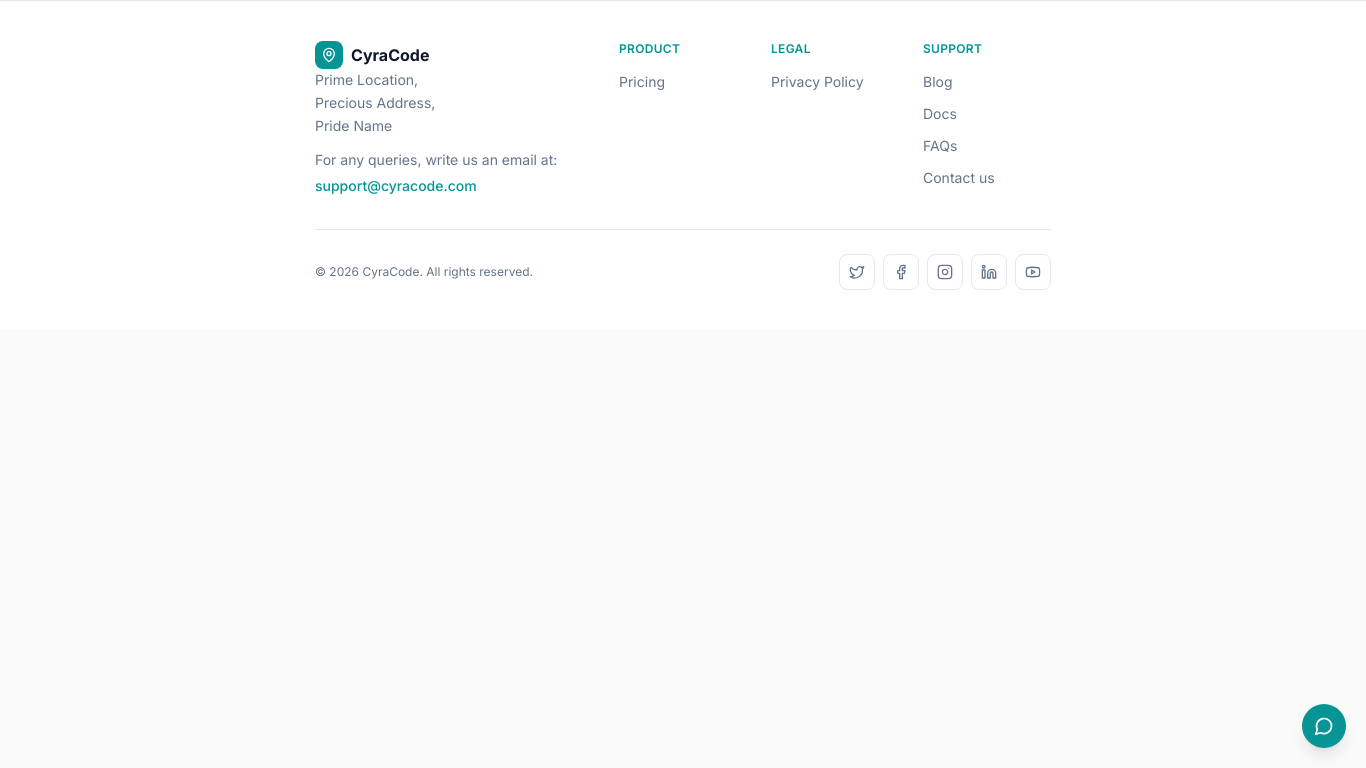
Test: ContactWidgetRoute › is opened by the footer Support button
This screenshot has width=1366, height=768.
Click the button "Contact us".
click(959, 178)  # box [923,168,995,188]
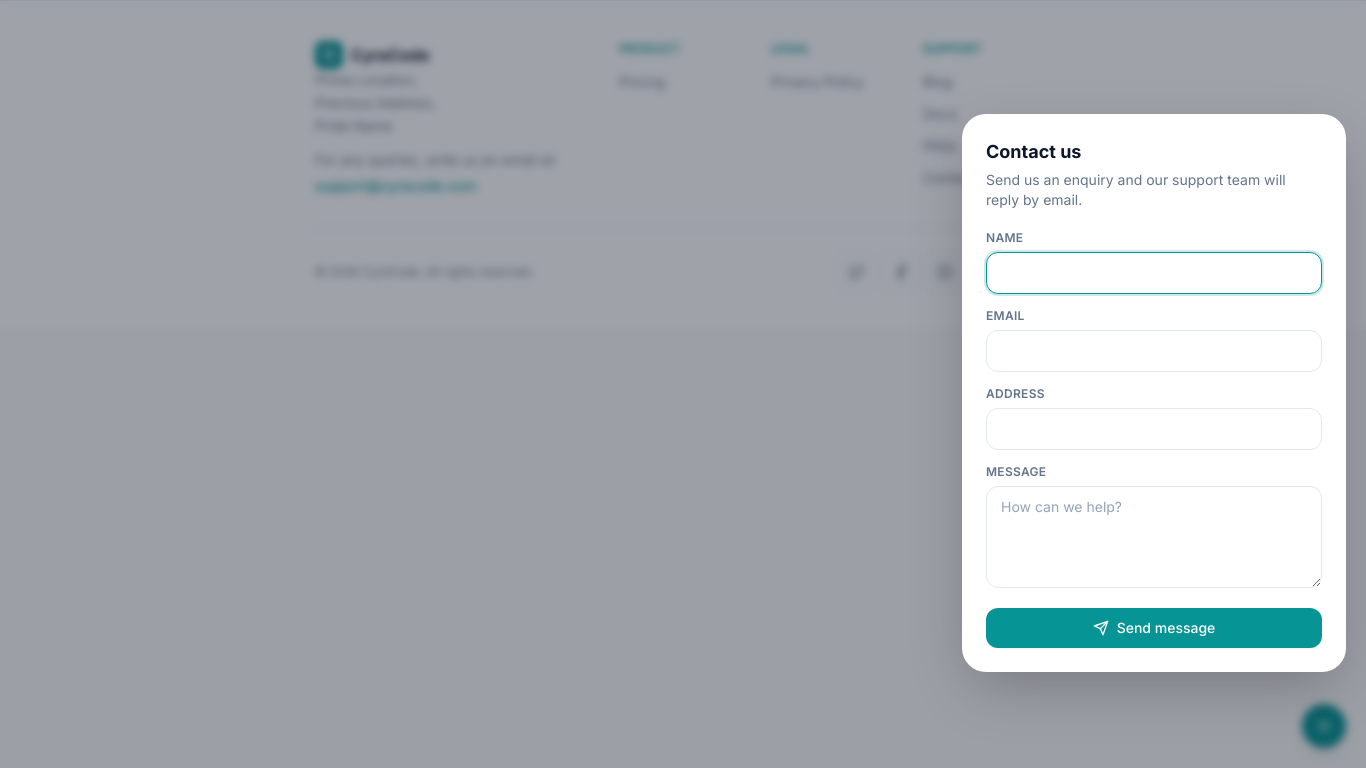
Now the dialog with test id "contact-widget" is shown, box [962,114,1346,672]
Now the button with test id "contact-launcher" is expanded, box [1302,704,1346,748]
